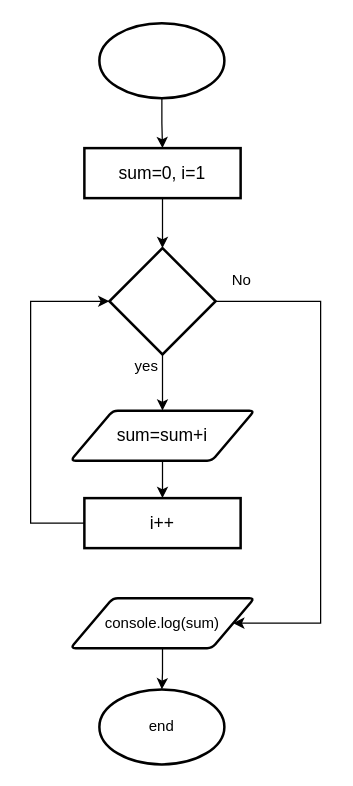
The diagram is 353 pixels wide and 786 high, and some of its shapes have lost their labels. The centre of each missing label's shape, as x and y in pixels:
"i<=100" belongs at (162,300).
"start" belongs at (161,60).
